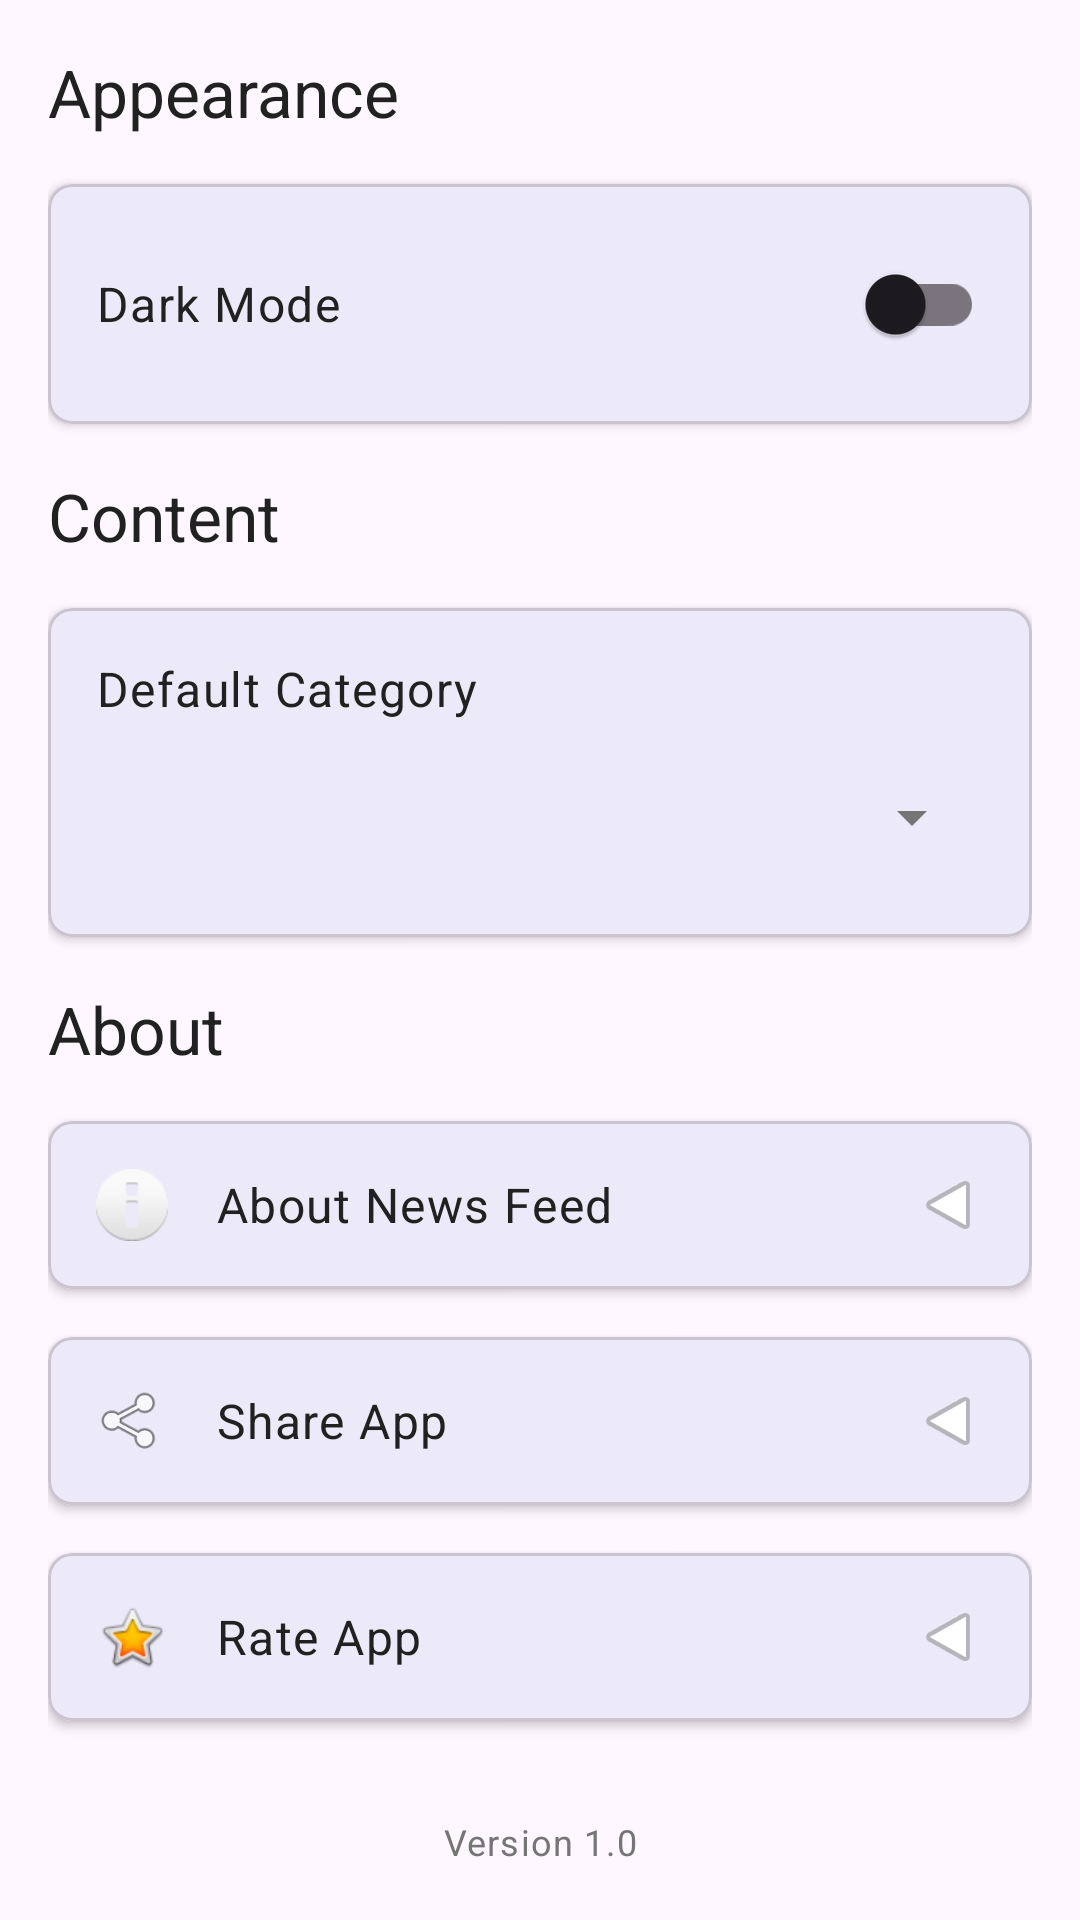

Where to tap for icons on this 1080px×1920px app screen, as [x,y]:
info: [132,1211]
star on: [133,1637]
